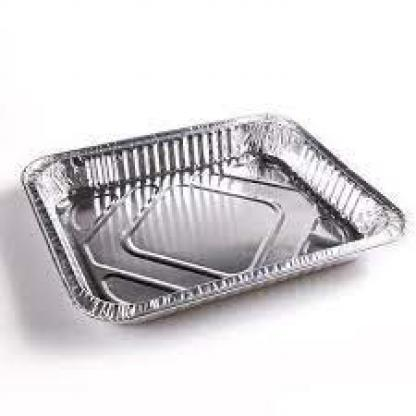METAL: (18, 111, 405, 322)
